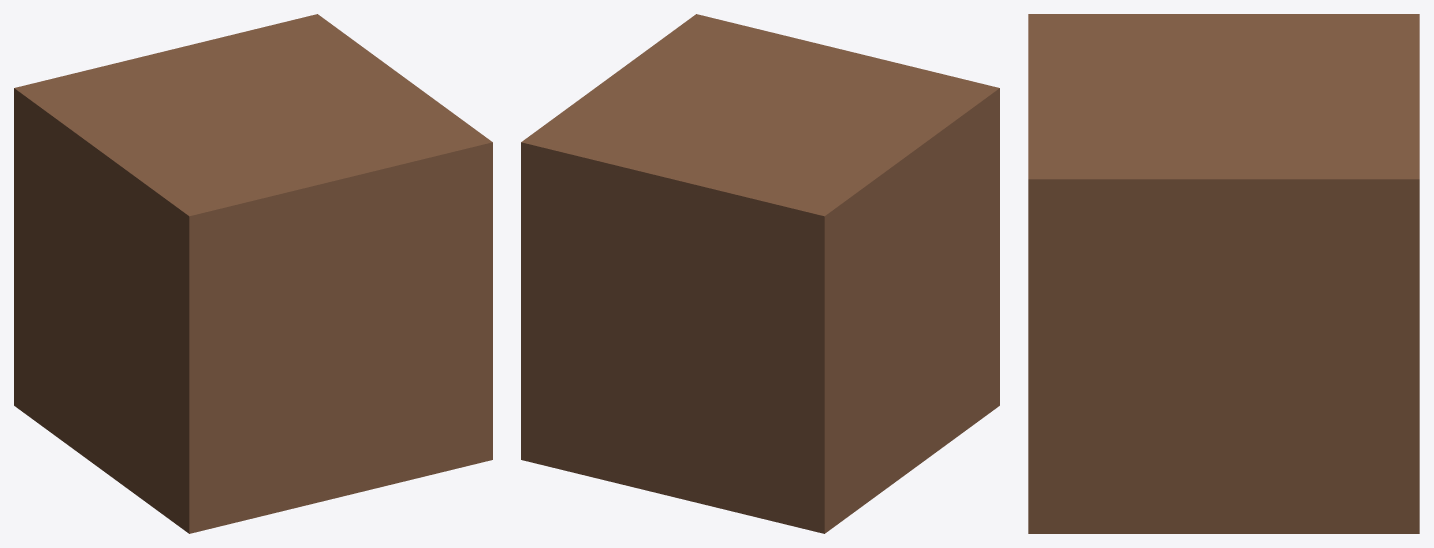
Rendered from FacadeKit_Porch_LOD0.glb.
3 renders of one model, left to right at view 1: azimuth 30°, elevation 25°; view 2: azimuth 150°, elevation 25°; view 3: azimuth 270°, elevation 25°, orthographic. The views are drawn at different scales.
Parts seen in each view (by area): view 1: FacadeKit_Porch_LOD0; view 2: FacadeKit_Porch_LOD0; view 3: FacadeKit_Porch_LOD0.
Part boxes in pixels (x1,y1,x2,y2): FacadeKit_Porch_LOD0: [14, 14, 492, 533]; FacadeKit_Porch_LOD0: [521, 14, 999, 533]; FacadeKit_Porch_LOD0: [1028, 14, 1419, 533].
Size of the model in its own units: 1 by 1 by 1.
